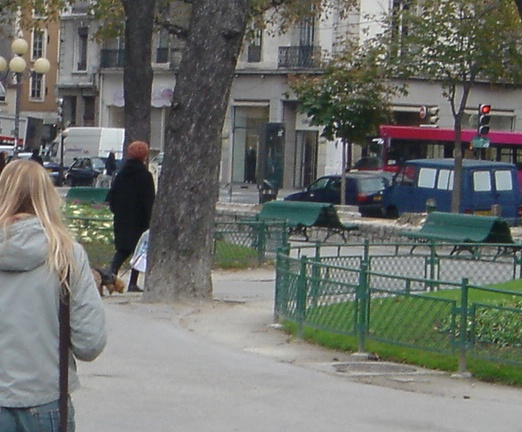person: (109, 136, 152, 292)
